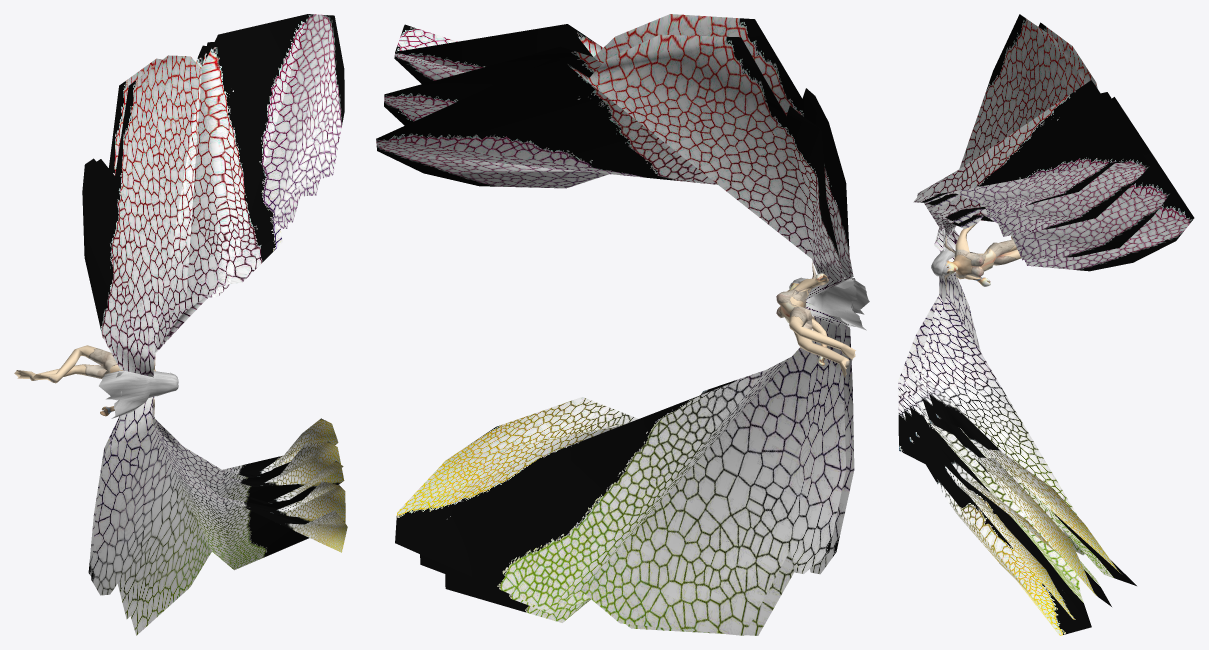
Rendered from angel_000222.obj.
3 views of the same model, side by side, from view 1: azimuth 30°, elevation 25°; view 2: azimuth 150°, elevation 25°; view 3: azimuth 270°, elevation 25° (orthographic). The views are drawn at different scales.
Parts seen in each view (by area): view 1: wings_Plane.001, hair.003_omino.013, body.001_omino.012; view 2: wings_Plane.001, body.001_omino.012, hair.003_omino.013; view 3: wings_Plane.001, body.001_omino.012, hair.003_omino.013.
Boxes of the visible parts, x1,y1,x2,y2 form: wings_Plane.001: (82,14,347,635); hair.003_omino.013: (99,370,178,418); body.001_omino.012: (14,337,155,416); wings_Plane.001: (376,14,854,635); body.001_omino.012: (776,261,855,377); hair.003_omino.013: (789,277,869,330); wings_Plane.001: (898,14,1194,635); body.001_omino.012: (944,224,1021,291); hair.003_omino.013: (931,229,954,276).
Bounding box in the file's own units: 6.78 × 9.91 × 5.08.
